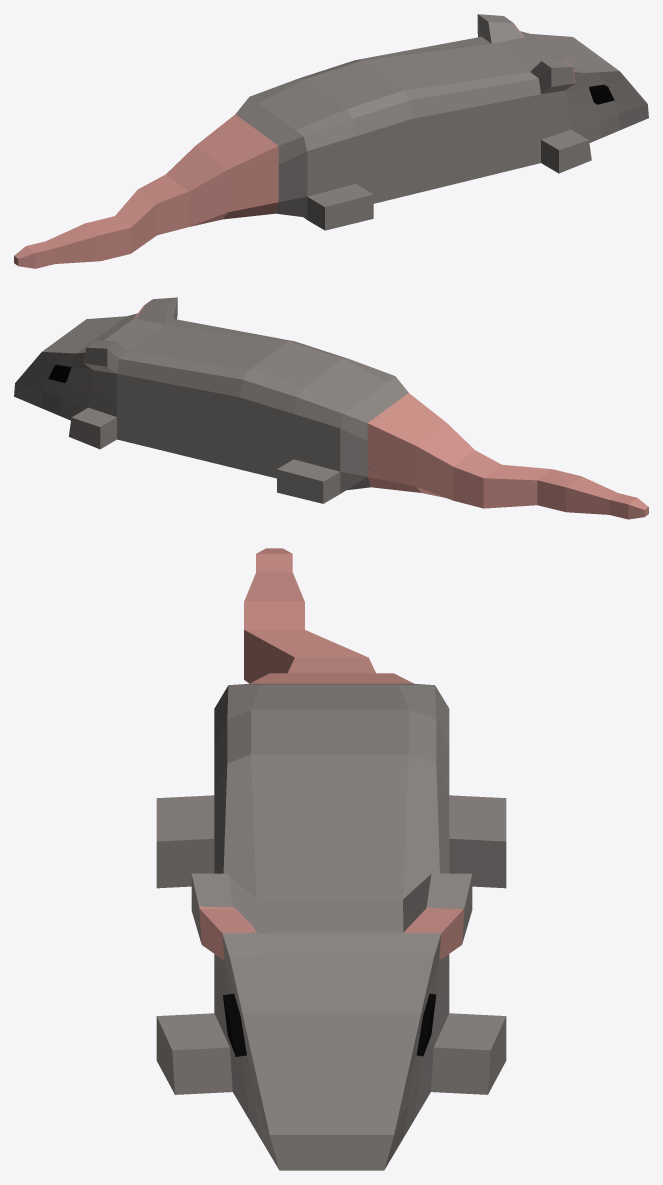
Rendered from Rat.fbx.
3 renders of one model, top to bottom at view 1: azimuth 30°, elevation 25°; view 2: azimuth 150°, elevation 25°; view 3: azimuth 270°, elevation 25°, orthographic. The views are drawn at different scales.
Visible parts, largest first — view 1: Cube; view 2: Cube; view 3: Cube.
Boxes of the visible parts, box(x1,y1,x2,y2) form: Cube: box(14, 14, 648, 268); Cube: box(14, 297, 648, 519); Cube: box(156, 548, 506, 1170).
Bounding box in the file's own units: 542 × 80.64 × 136.
Materials: 1 (1 with a texture image).
